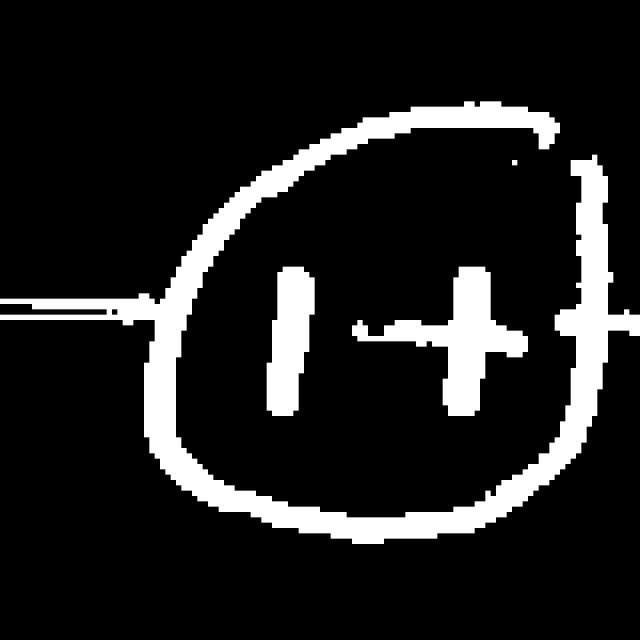voltage_source: (133, 94, 625, 558)
